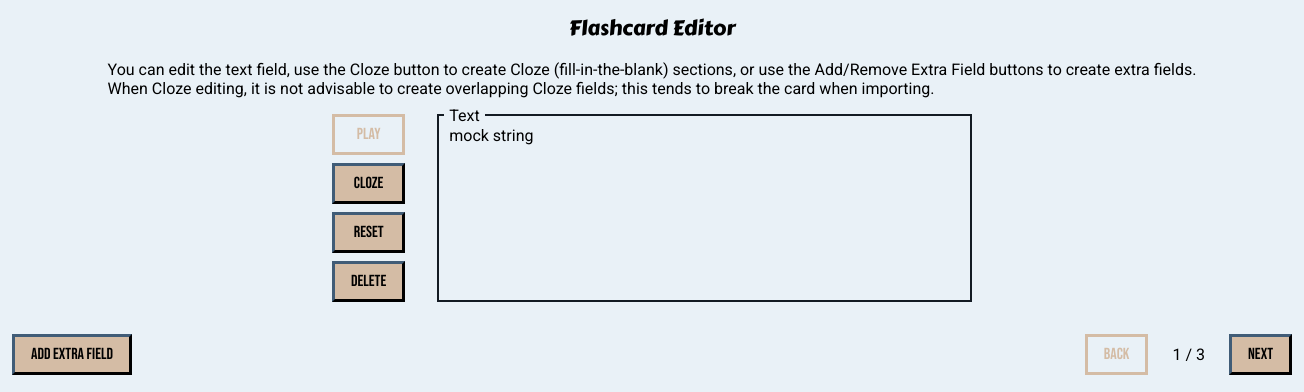
FlashcardEditor › disables back button when editing first section, enables when press next
Expected: the button "Back" is disabled, [1085, 334, 1148, 375]
Click the button "Next" at (1260, 354), box [1229, 334, 1292, 375]
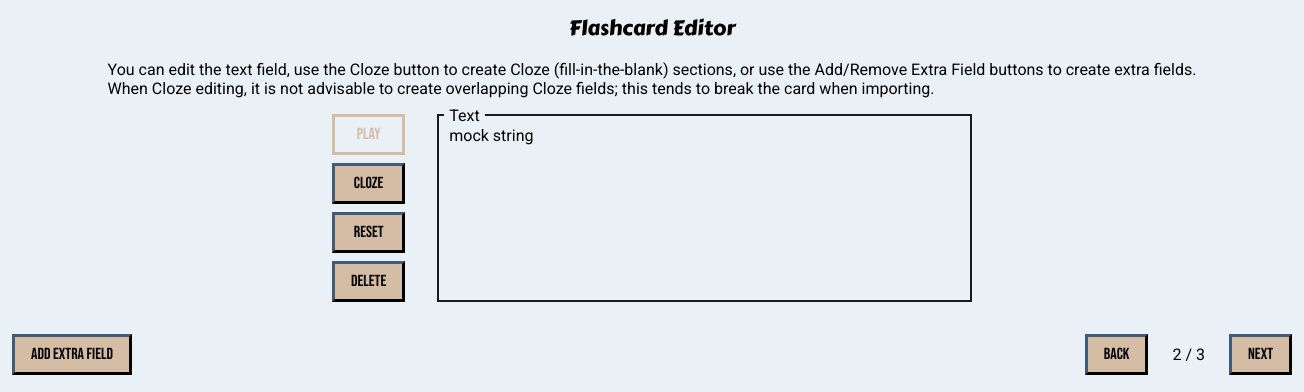
Result: the button "Back" is enabled at [1085, 334, 1148, 375]
